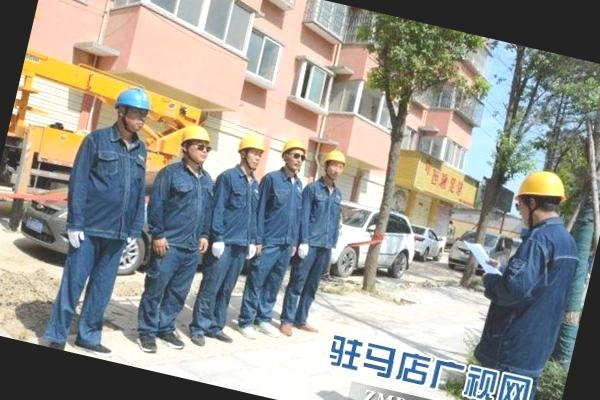helmet: (515, 167, 569, 205), (117, 84, 157, 114), (179, 118, 212, 146), (279, 132, 311, 155), (238, 135, 264, 157), (326, 146, 347, 165)
no_vest: (486, 215, 584, 364), (63, 127, 155, 250), (150, 160, 219, 253), (255, 164, 310, 248), (215, 165, 266, 248), (300, 173, 352, 251)
person: (29, 73, 174, 362), (448, 161, 600, 400), (114, 114, 238, 362), (178, 124, 279, 358), (226, 128, 326, 350), (273, 136, 363, 344)
